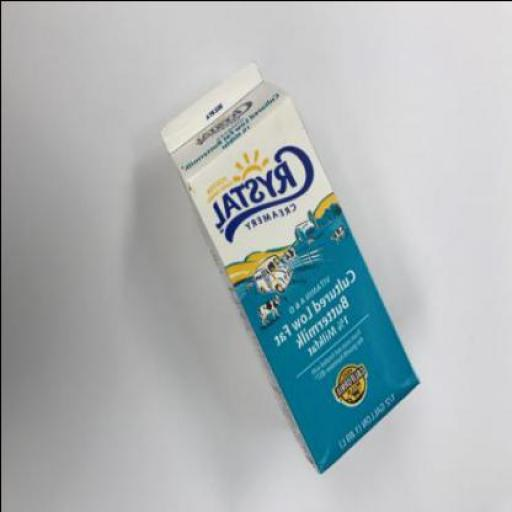cardboard: (161, 58, 421, 472)
